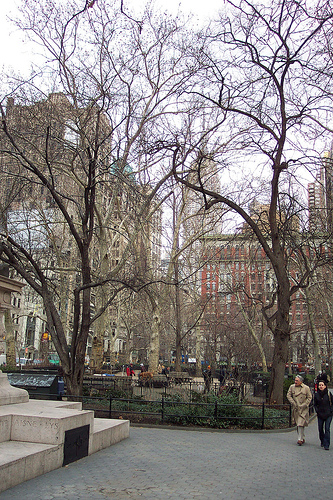without_mask: (316, 381, 328, 393), (293, 375, 304, 388)
